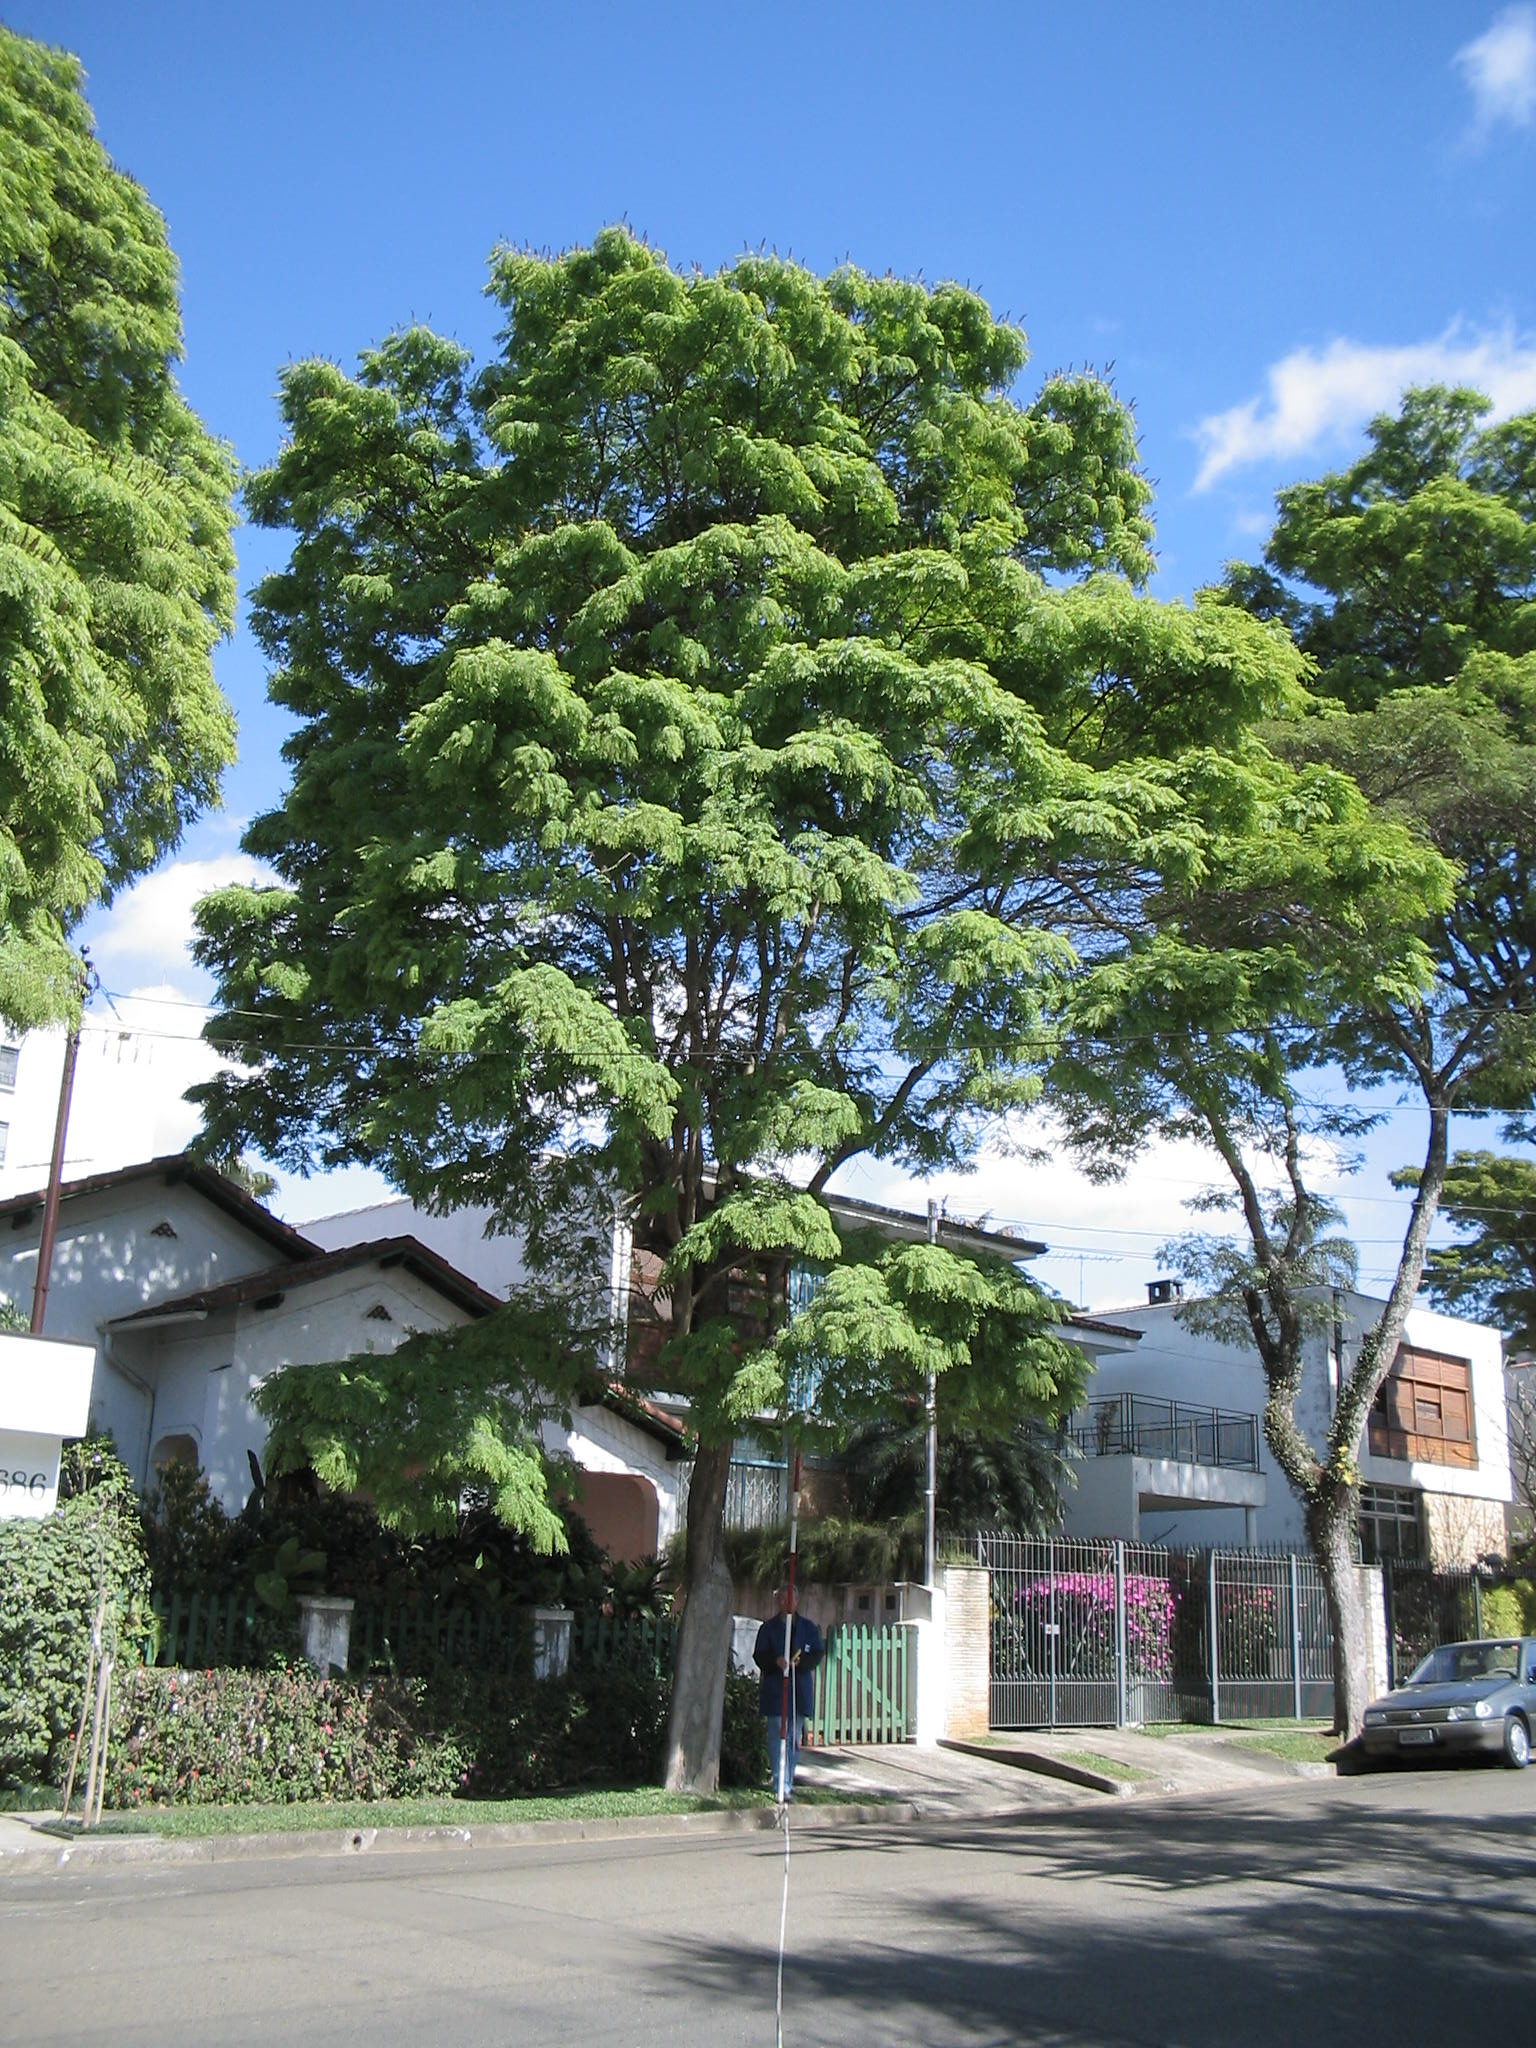crown: (248, 226, 1457, 1474)
stem: (639, 1450, 766, 1796), (1262, 1503, 1404, 1734)
stick: (755, 1447, 821, 1804)
tree: (239, 221, 1459, 1804), (1141, 653, 1530, 1753)
